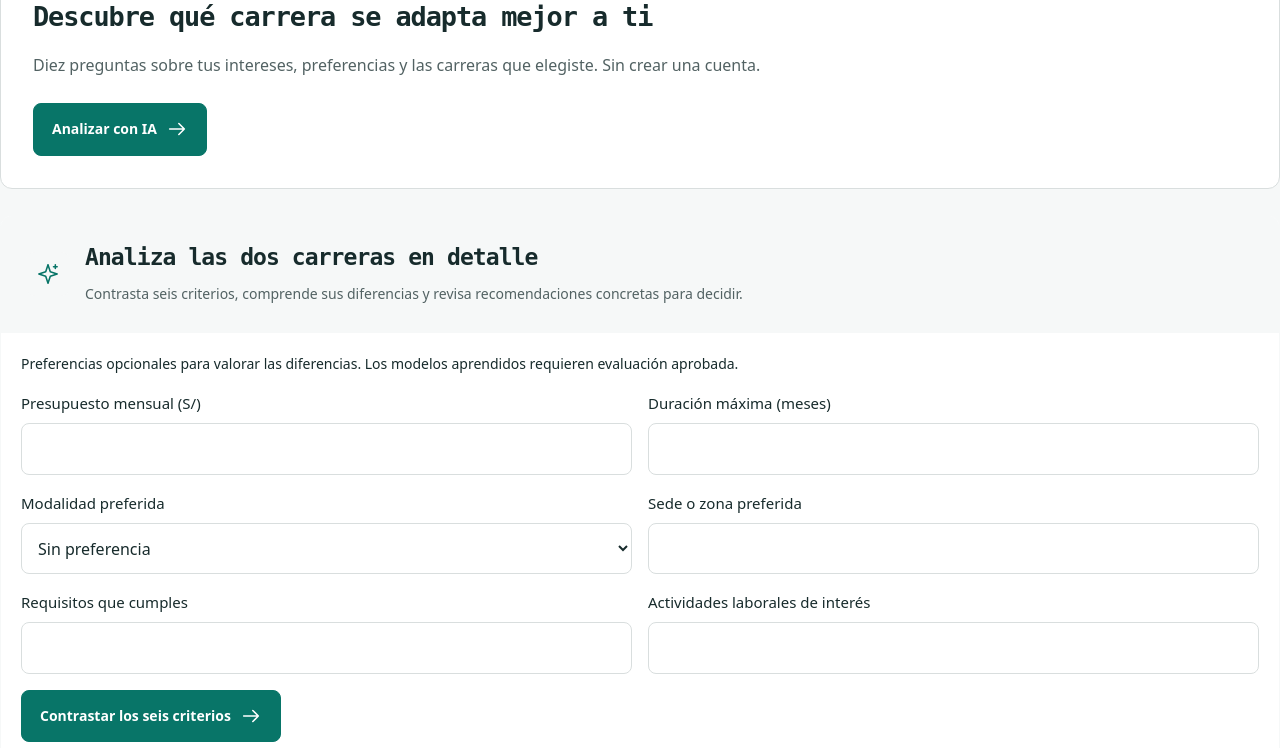
Test: Análisis HU-IA01 › envía las preferencias declaradas sin inventar las restantes
The image size is (1280, 748).
(page scrolled)
Type "950" into the number field labelled "Presupuesto mensual (S/)" at (326,449), box [21,423,632,474]
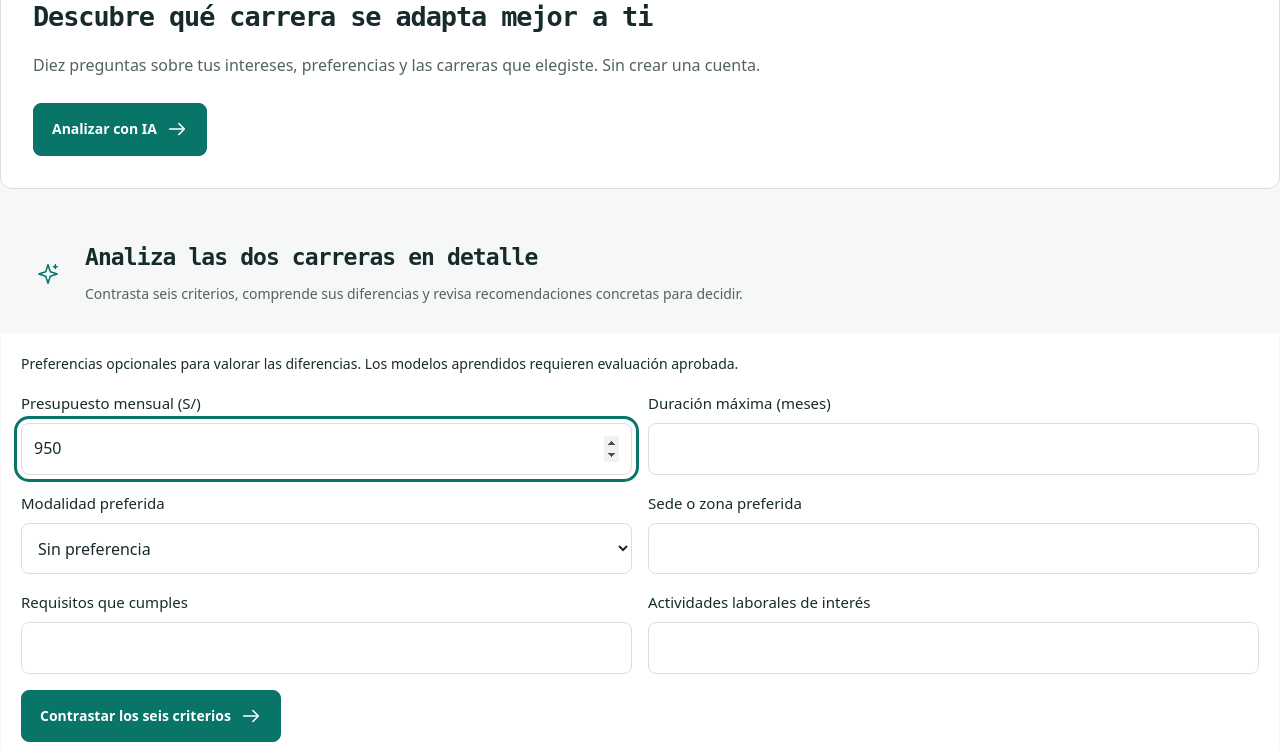
Select "Virtual" in the dropdown labelled "Modalidad preferida" at (326,549), box [21,523,632,574]
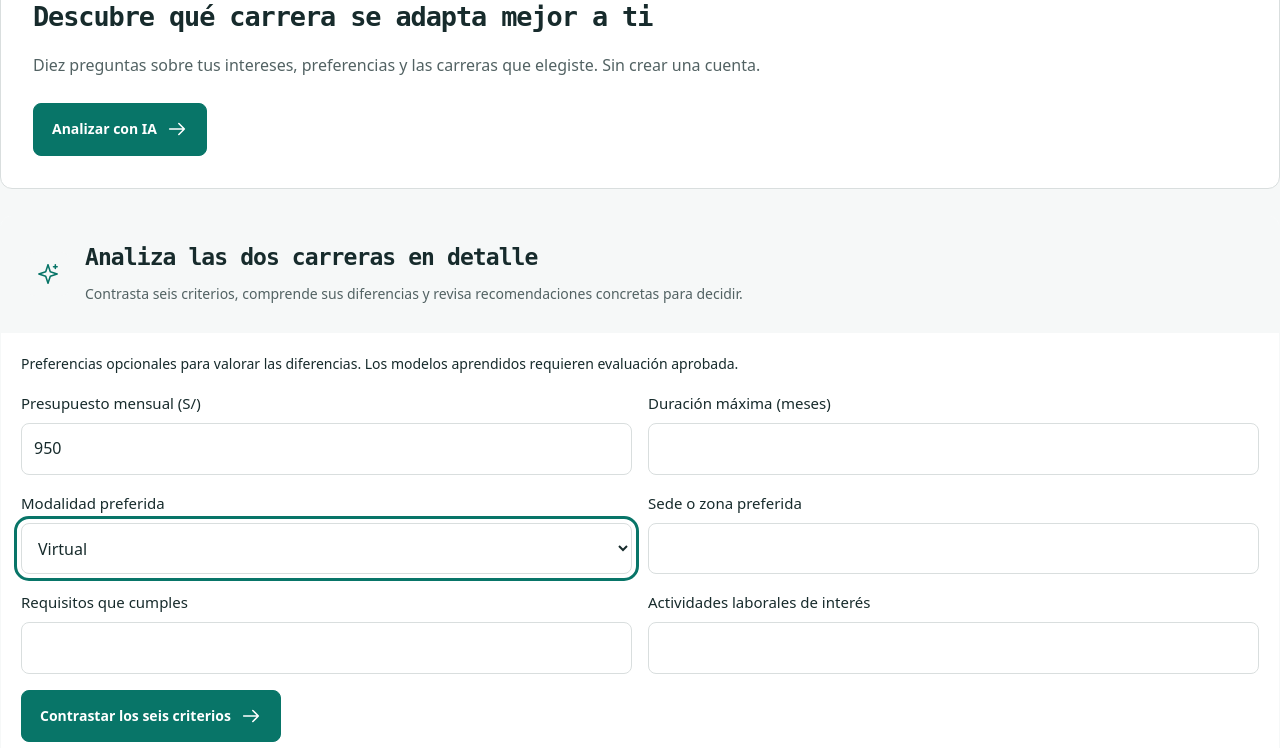
Click the button "Contrastar los seis criterios" at (151,716), box [21,690,281,742]
(page scrolled)
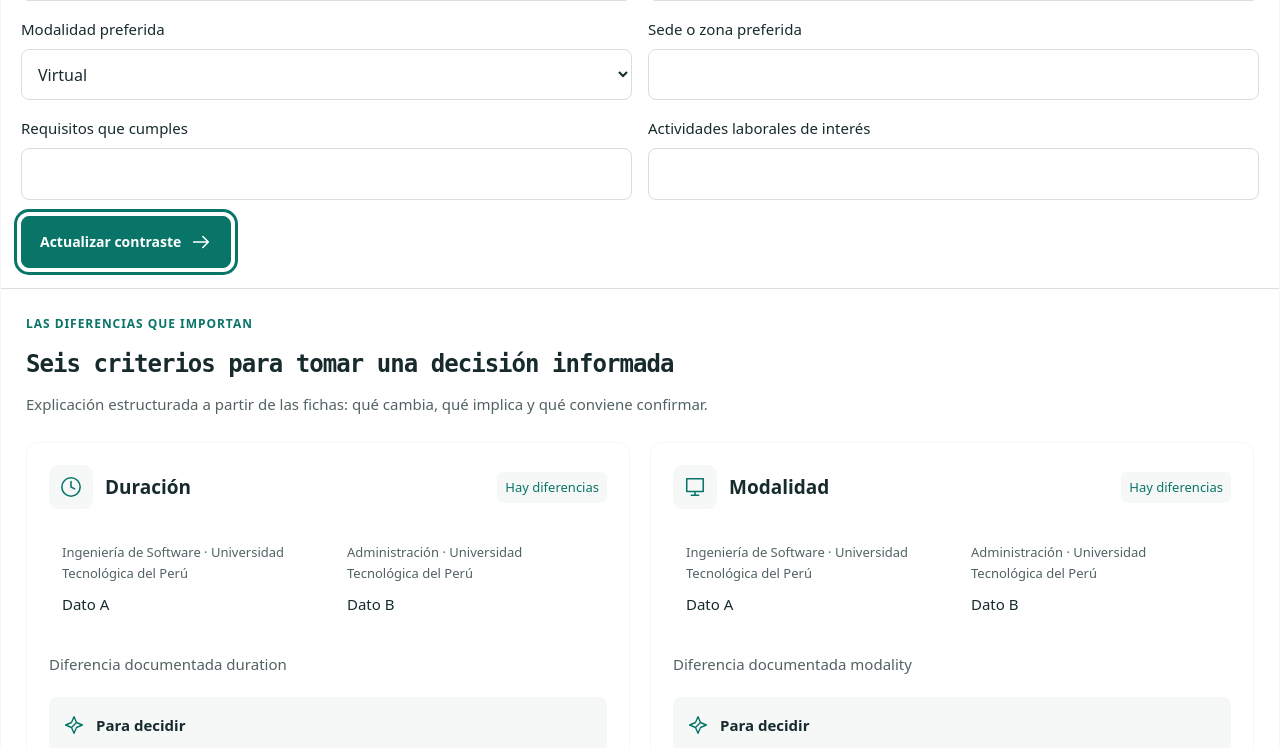
Expected: the heading "Seis criterios para tomar una decisión informada" is shown, [26,350,674,378]
